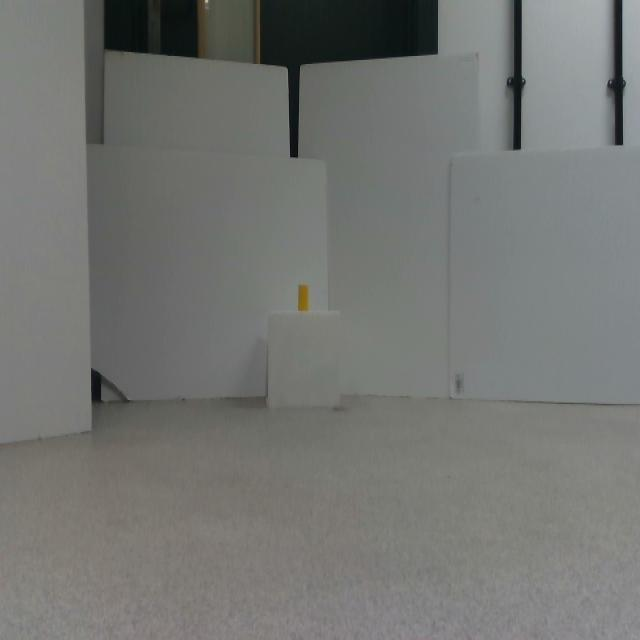yellow_cylinder: (298, 284, 308, 311)
